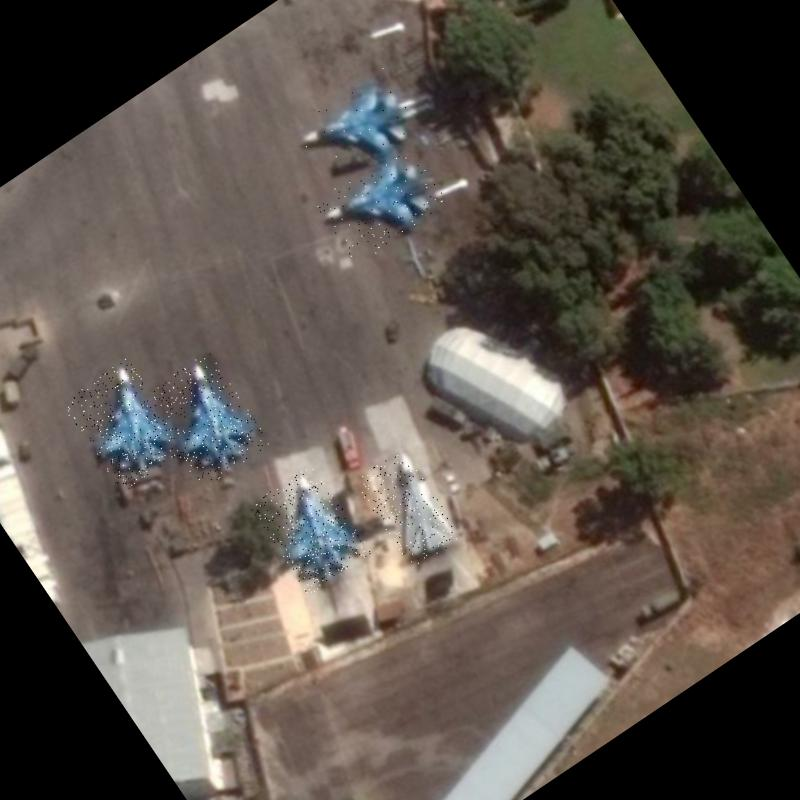A19: (291, 63, 433, 194), (140, 351, 271, 490), (60, 356, 190, 494), (314, 144, 450, 268), (248, 462, 372, 596)
A20: (353, 447, 464, 572)
